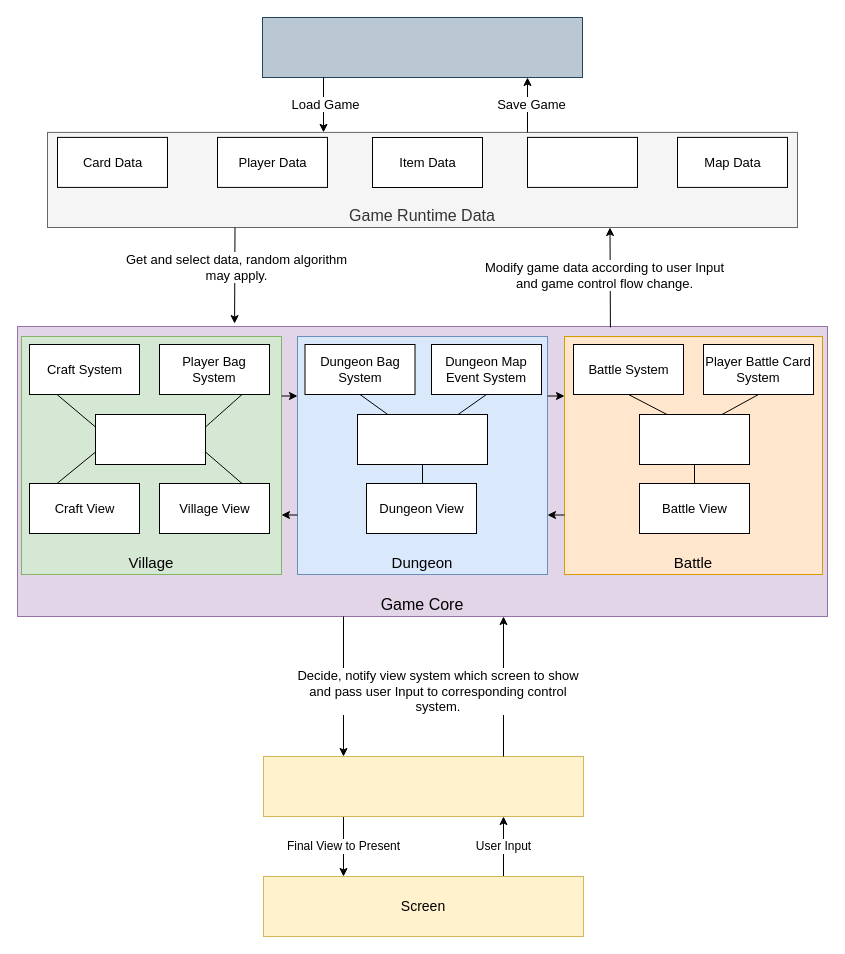
Some shapes in this 845 by 954 pixel diagram are drawn without their labels. The centre of each missing label's shape, as x and y in pixels:
Battle Control: [694,439]
Dungeon Control: [422,439]
Enemy Data: [582,161]
Game Data Save / Load System: [422,47]
Screen Controller: [423,786]
Village Control: [150,439]
